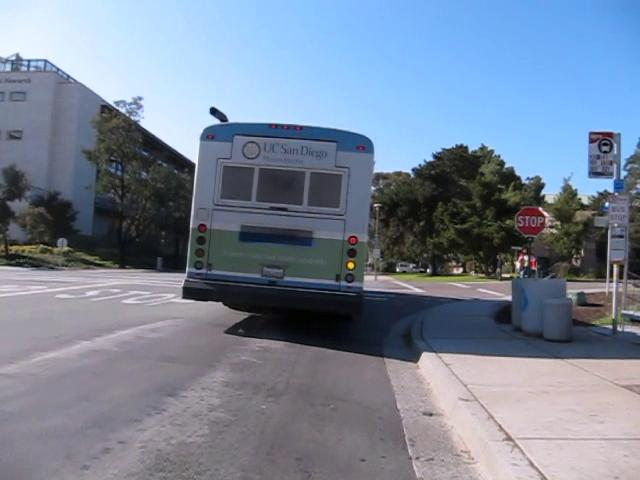stop: (514, 205, 546, 237)
